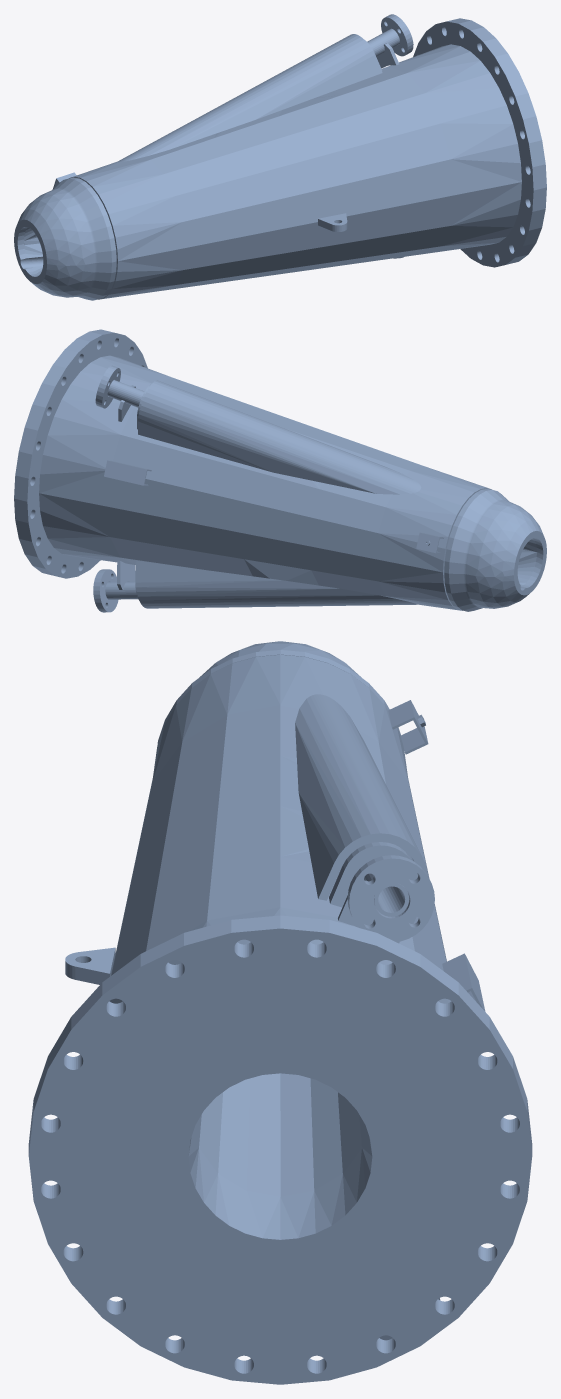
Rendered from blow_pipe.glb.
3 renders of one model, top to bottom at view 1: azimuth 30°, elevation 25°; view 2: azimuth 150°, elevation 25°; view 3: azimuth 270°, elevation 25°, orthographic. The views are drawn at different scales.
Parts seen in each view (by area): view 1: part_0, part_2, part_1, part_4, part_11, part_3, part_8, part_14; view 2: part_0, part_4, part_2, part_1, part_5, part_15, part_10, part_3, part_8, part_11, part_9, part_13 (+1 smaller); view 3: part_3, part_1, part_0, part_4, part_11, part_2, part_6, part_14, part_16, part_8, part_15.
Boxes of the visible parts, box(x1,y1,x2,y2) form: part_0: box(69, 44, 521, 299); part_2: box(14, 177, 116, 300); part_1: box(413, 18, 546, 267); part_4: box(117, 34, 382, 162); part_11: box(381, 14, 413, 56); part_3: box(24, 227, 43, 274); part_8: box(367, 28, 399, 56); part_14: box(318, 213, 347, 231); part_0: box(39, 355, 491, 610); part_4: box(138, 380, 421, 494); part_2: box(444, 488, 546, 611); part_1: box(14, 329, 147, 578); part_5: box(136, 561, 417, 608); part_15: box(104, 460, 151, 485); part_10: box(93, 569, 118, 612); part_3: box(517, 538, 536, 586); part_8: box(107, 380, 144, 407); part_11: box(95, 365, 120, 408); part_9: box(105, 581, 137, 599); part_13: box(117, 560, 135, 590); part_3: box(90, 984, 470, 1329); part_1: box(28, 915, 532, 1384); part_0: box(109, 654, 451, 1003); part_4: box(295, 694, 427, 923); part_11: box(347, 855, 434, 941); part_2: box(157, 641, 402, 744); part_6: box(329, 842, 417, 907); part_14: box(65, 947, 115, 984); part_16: box(388, 700, 428, 754); part_8: box(364, 873, 409, 916); part_15: box(442, 953, 485, 1011).
Bounding box in the file's own units: 2.4 × 1.23 × 1.15.
